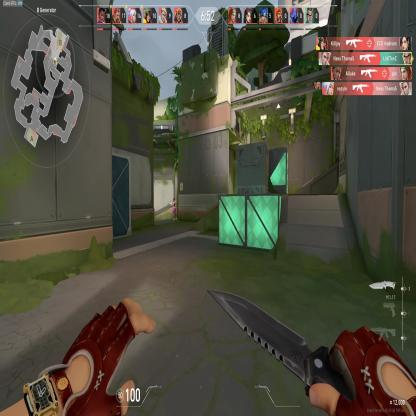enemy: (170, 197, 178, 221)
